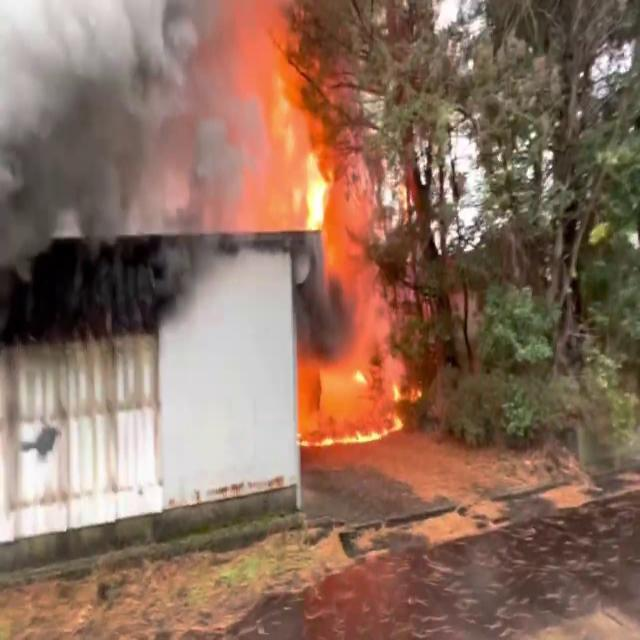Fire: (225, 2, 353, 262), (291, 344, 407, 444)
Smoke: (0, 0, 248, 279)
